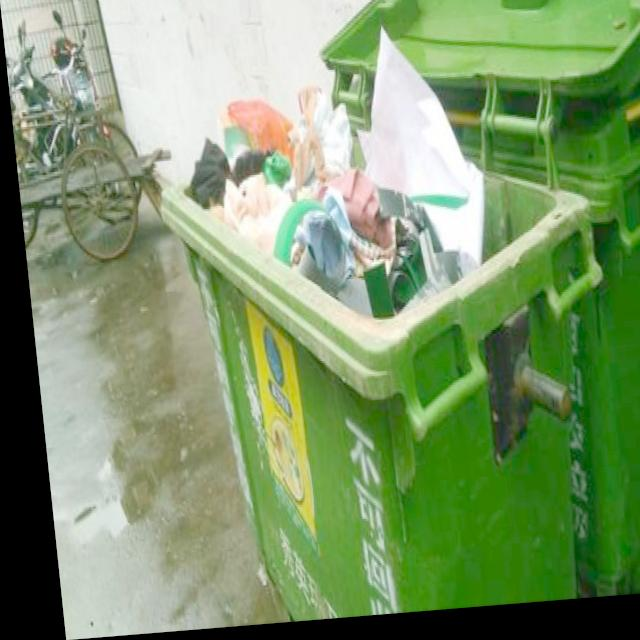overflow: (140, 19, 619, 629)
